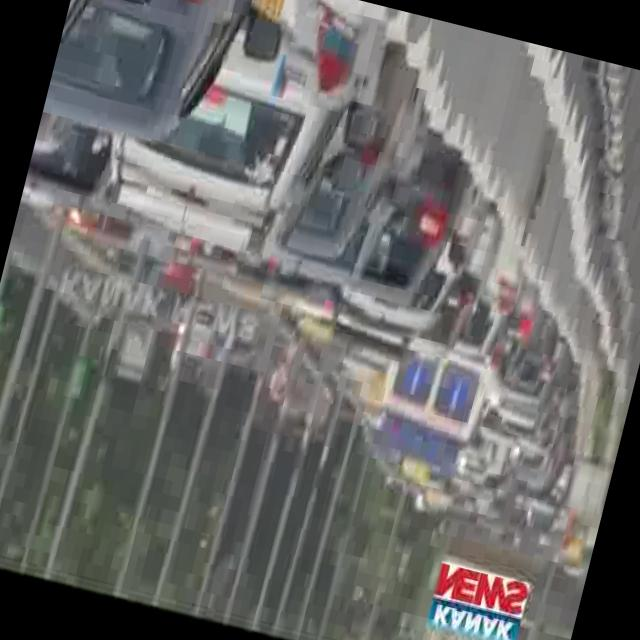ambulance: (364, 349, 494, 486)
